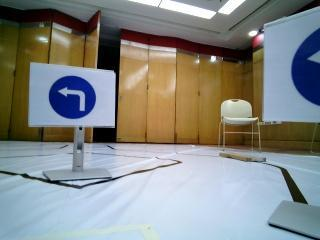left: (259, 5, 320, 130), (33, 67, 116, 123)
